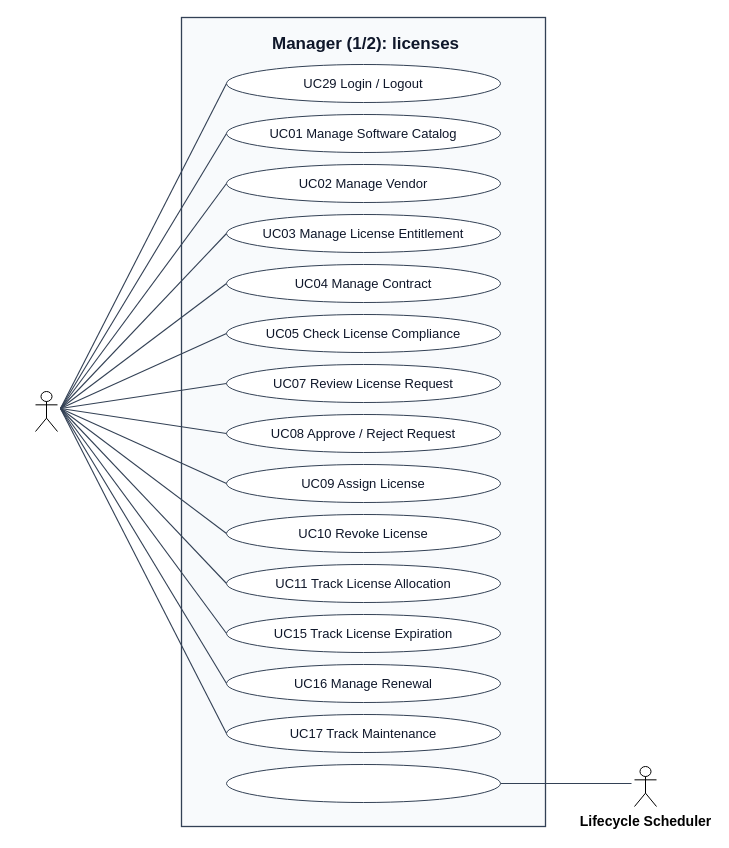
Image size: 729x848. Some labels were removed from this diagram. The shapes that lost their labels are listed below. From the top down, each one's centre as x and y in pixels, then its label:
At [46,411]: "Manager".
At [363,783]: "UC18 Generate Lifecycle Notification".
